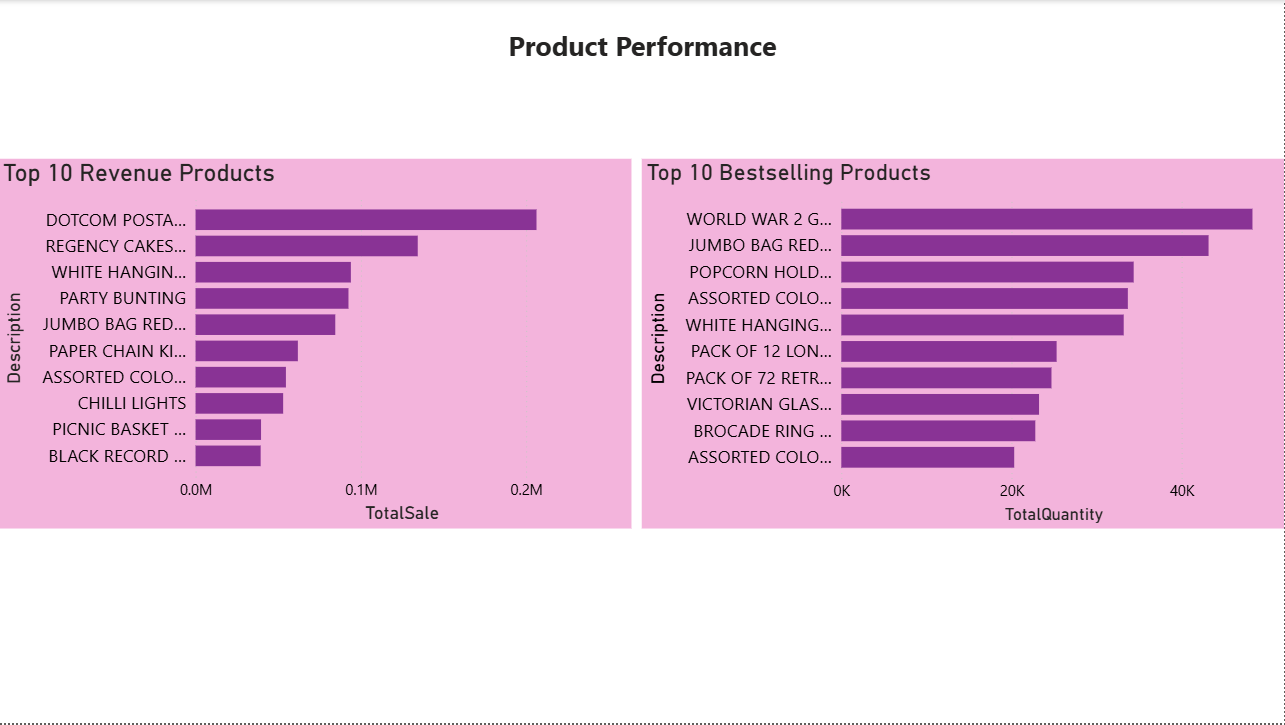

The dashboard page shown, as its layout file describes it:
{"tool":"powerbi","page":{"name":"Page 1","canvas":[1280,720],"ordinal":0},"visuals":[{"type":"barChart","title":"Top 10 Bestselling Products","fields":{"Category":["OnlineRetail (2).Description"],"Y":["OnlineRetail (2).TotalQuantity"]},"box":[640.1,158.1,640.1,367.8],"z":0},{"type":"barChart","title":"Top 10 Revenue Products","fields":{"Y":["OnlineRetail (2).TotalSale"],"Category":["OnlineRetail (2).Description"]},"box":[0,158.1,630.1,367.8],"z":1000},{"type":"textbox","box":[428,22.6,426.8,59],"z":2000}]}

Visuals, with their boxes in screenshot pixels (x1, y1, x2, y2), scaled from the page's 1280x720 canvas onto the 1285x725 screenshot:
"Top 10 Bestselling Products" barChart: (left=643, top=159, right=1284, bottom=530)
"Top 10 Revenue Products" barChart: (left=0, top=159, right=633, bottom=530)
textbox: (left=430, top=23, right=858, bottom=82)
